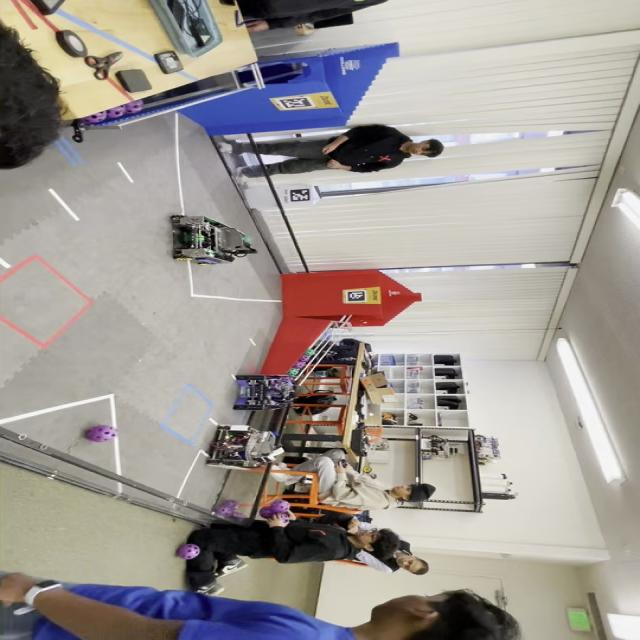artifact_green: (298, 356, 310, 364), (288, 368, 299, 375)
artifact_purple: (86, 426, 117, 442), (214, 500, 239, 517), (176, 544, 200, 560), (82, 112, 106, 125), (271, 499, 290, 513), (125, 100, 143, 113), (107, 106, 126, 118), (215, 506, 234, 517), (260, 506, 274, 519), (221, 500, 239, 508), (275, 514, 290, 523), (233, 511, 247, 519), (288, 368, 299, 376), (299, 356, 310, 363), (305, 349, 315, 355)
